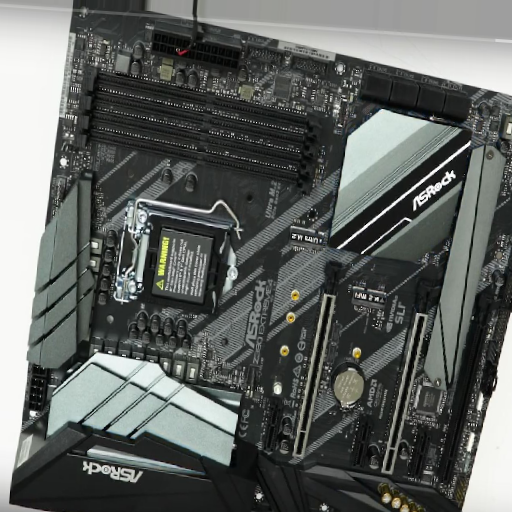CPU: (111, 201, 240, 315)
GPU: (378, 275, 438, 475), (292, 266, 342, 459)
MOTHERBOARD: (6, 5, 507, 510)
RAM: (70, 64, 328, 197)
SSD: (287, 220, 327, 254), (348, 283, 389, 312)
